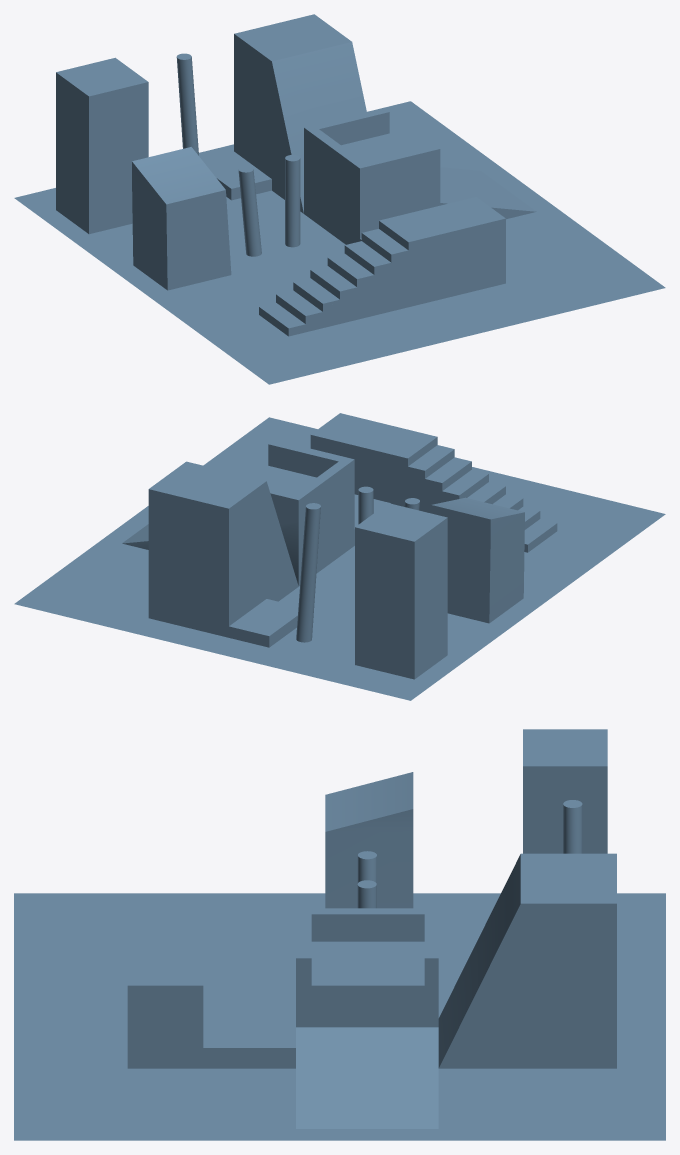
File: par2.glb
3 renders of one model, top to bottom at view 1: azimuth 30°, elevation 25°; view 2: azimuth 150°, elevation 25°; view 3: azimuth 270°, elevation 25°, orthographic. The views are drawn at different scales.
Visible parts, largest first — view 1: parc2; view 2: parc2; view 3: parc2.
Part boxes in pixels (x1,y1,x2,y2): parc2: (14, 14, 665, 384); parc2: (14, 413, 665, 700); parc2: (14, 729, 665, 1140).
Size of the model in its own units: 14.04 by 4.66 by 15.64.
